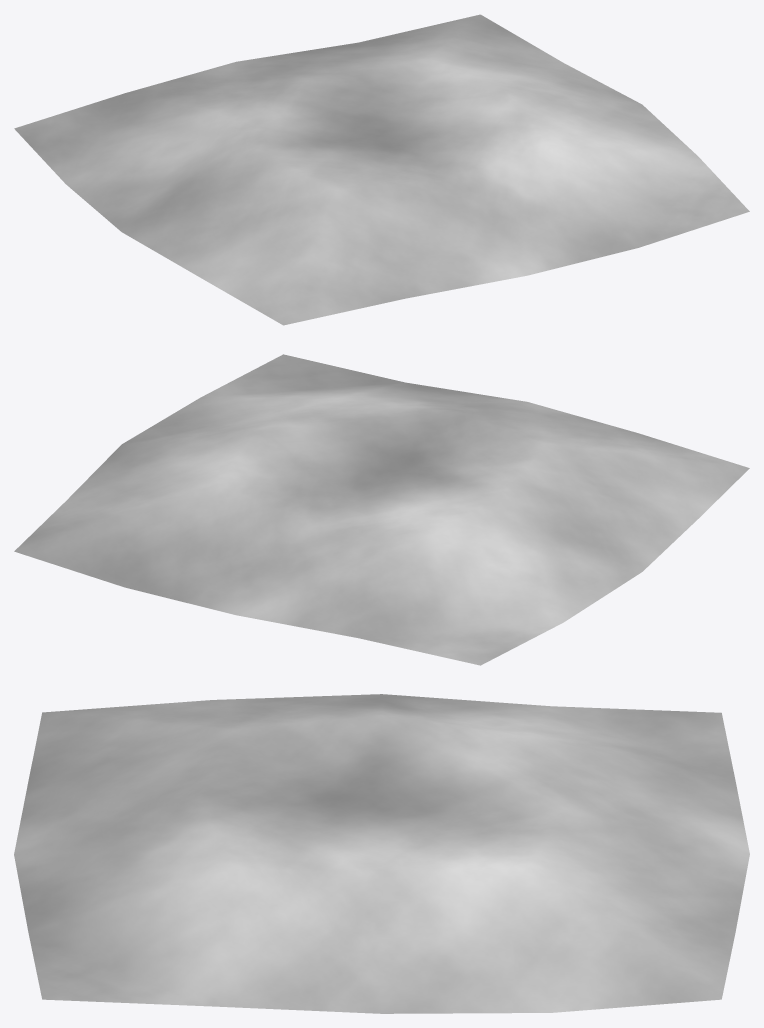
The model's file is AMB_SNOW.glb.
3 views of the same model, one above another, from view 1: azimuth 30°, elevation 25°; view 2: azimuth 150°, elevation 25°; view 3: azimuth 270°, elevation 25° (orthographic). The views are drawn at different scales.
Parts seen in each view (by area): view 1: BASE; view 2: BASE; view 3: BASE.
Part boxes in pixels (bbox=[...]): BASE: bbox=[14, 14, 749, 325]; BASE: bbox=[14, 354, 749, 665]; BASE: bbox=[14, 694, 749, 1013].
Size of the model in its own units: 44.64 by 4.43 by 43.32.
Materials: 1 (1 with a texture image).
